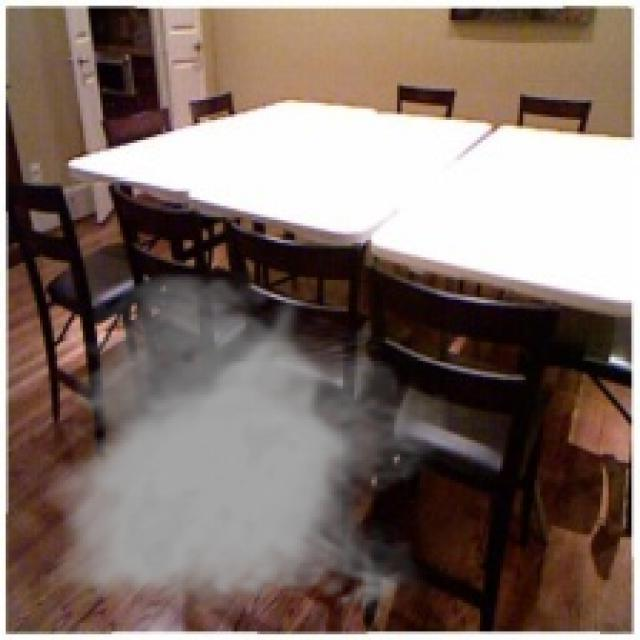Smoke: (40, 269, 449, 620)
